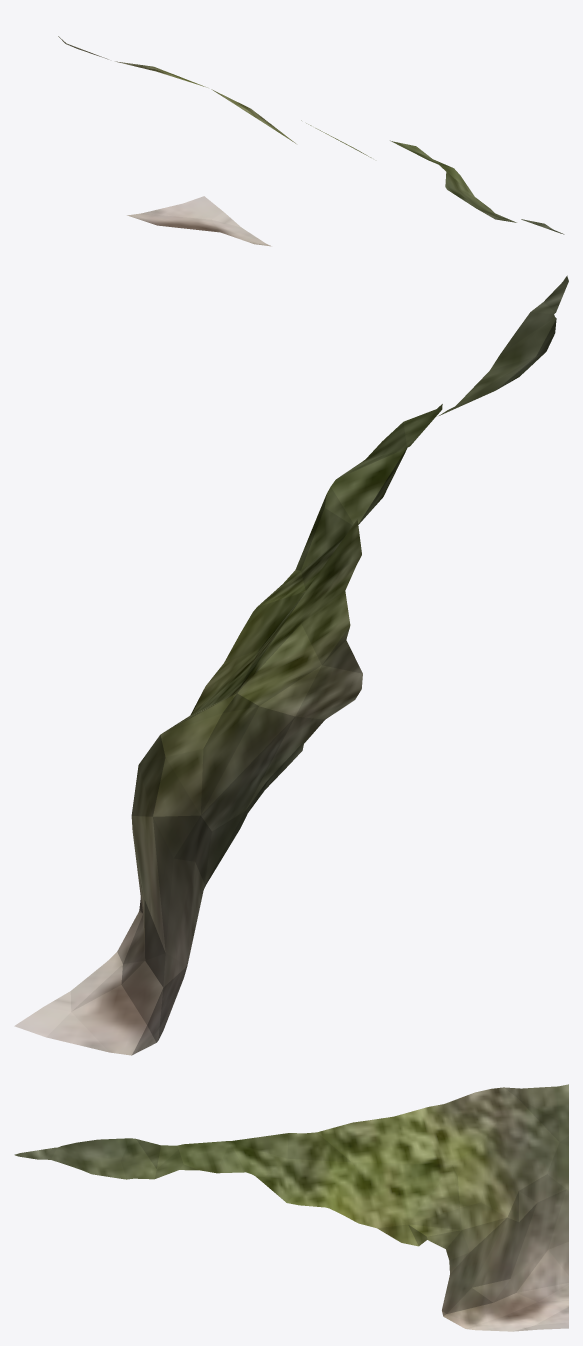
3 views of the same model, one above another, from view 1: azimuth 30°, elevation 25°; view 2: azimuth 150°, elevation 25°; view 3: azimuth 270°, elevation 25° (orthographic). The views are drawn at different scales.
Bounding box in the file's own units: 0.5479 × 0.6388 × 1.82.
Materials: 1 (1 with a texture image).
